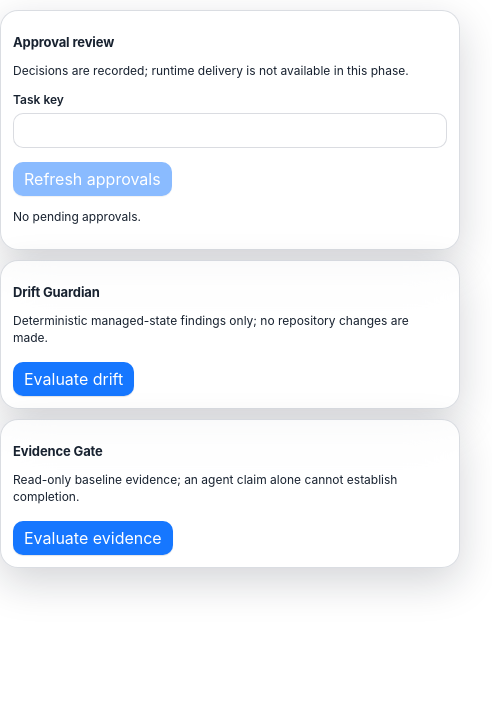
ApprovalPanel › records a backend-confirmed decision without claiming execution
The width and height of the screenshot is (492, 701).
Expected: the text "Decisions are recorded; runtime delivery is not available in this phase." is shown, [13,62,447,79]
In the field labelled "Task key": (230, 130) [13,113,447,148], type "task"
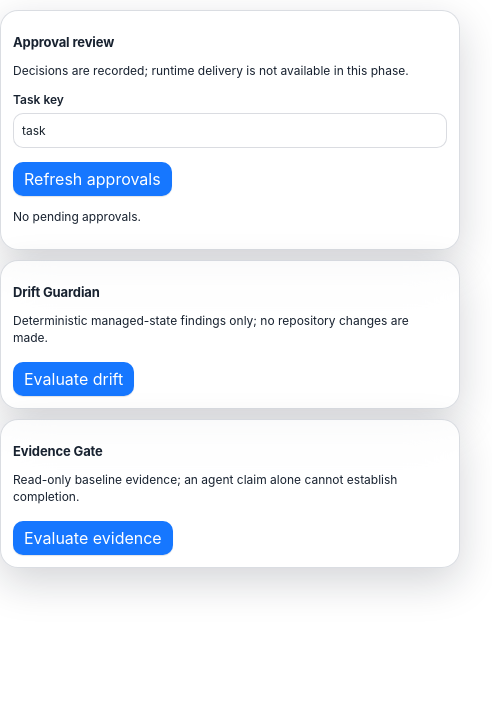
Click the button "Refresh approvals": (92, 179) [13,162,172,196]
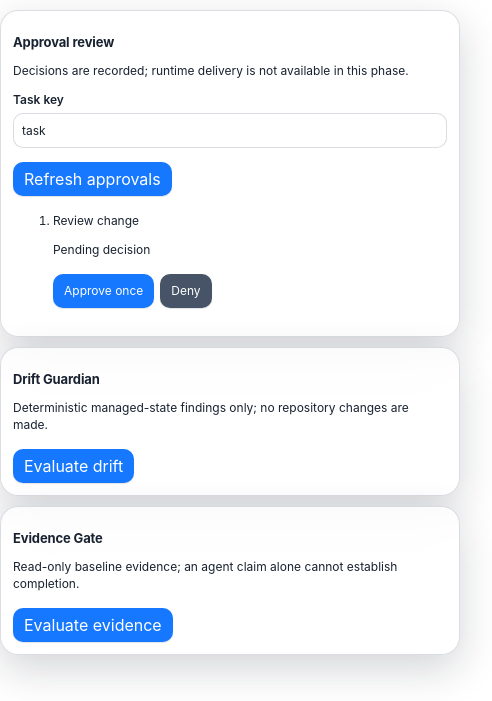
Now the text "Review change" is shown, box [53,213,139,228]
Click the button "Approve once": (104, 291) [53,274,154,308]
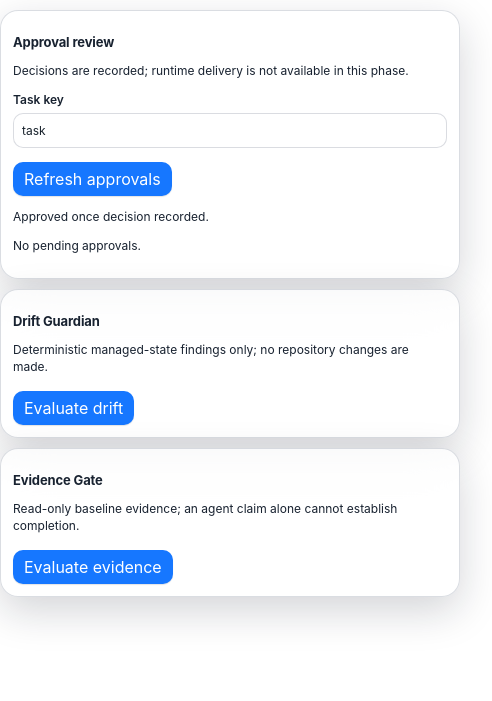
Now the text "Approved once decision recorded." is shown, box [13,209,209,224]
